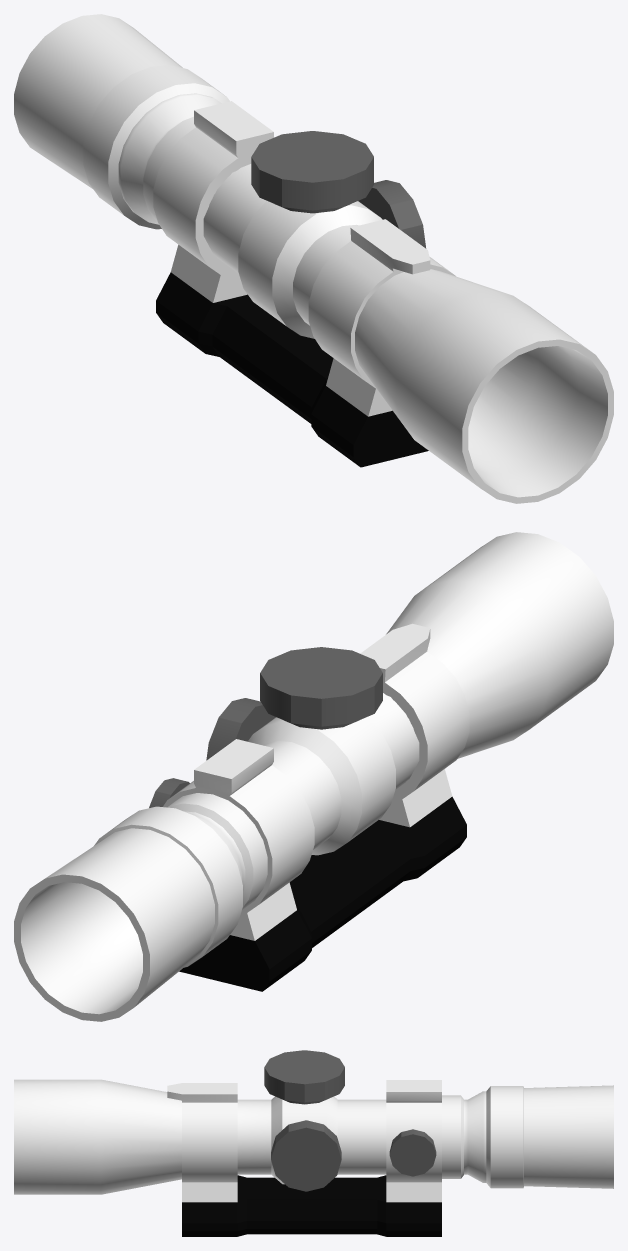
Rendered from scope_4.fbx.
The picture shows the model from 3 angles, top to bottom: view 1: azimuth 30°, elevation 25°; view 2: azimuth 150°, elevation 25°; view 3: azimuth 270°, elevation 25°; orthographic projection. The views are drawn at different scales.
Visible parts, largest first — view 1: scope_4; view 2: scope_4; view 3: scope_4.
Boxes of the visible parts, x1,y1,x2,y2 form: scope_4: (14,14,613,503); scope_4: (14,532,613,1021); scope_4: (14,1050,613,1236).
Size of the model in its own units: 227 by 315 by 1125.
